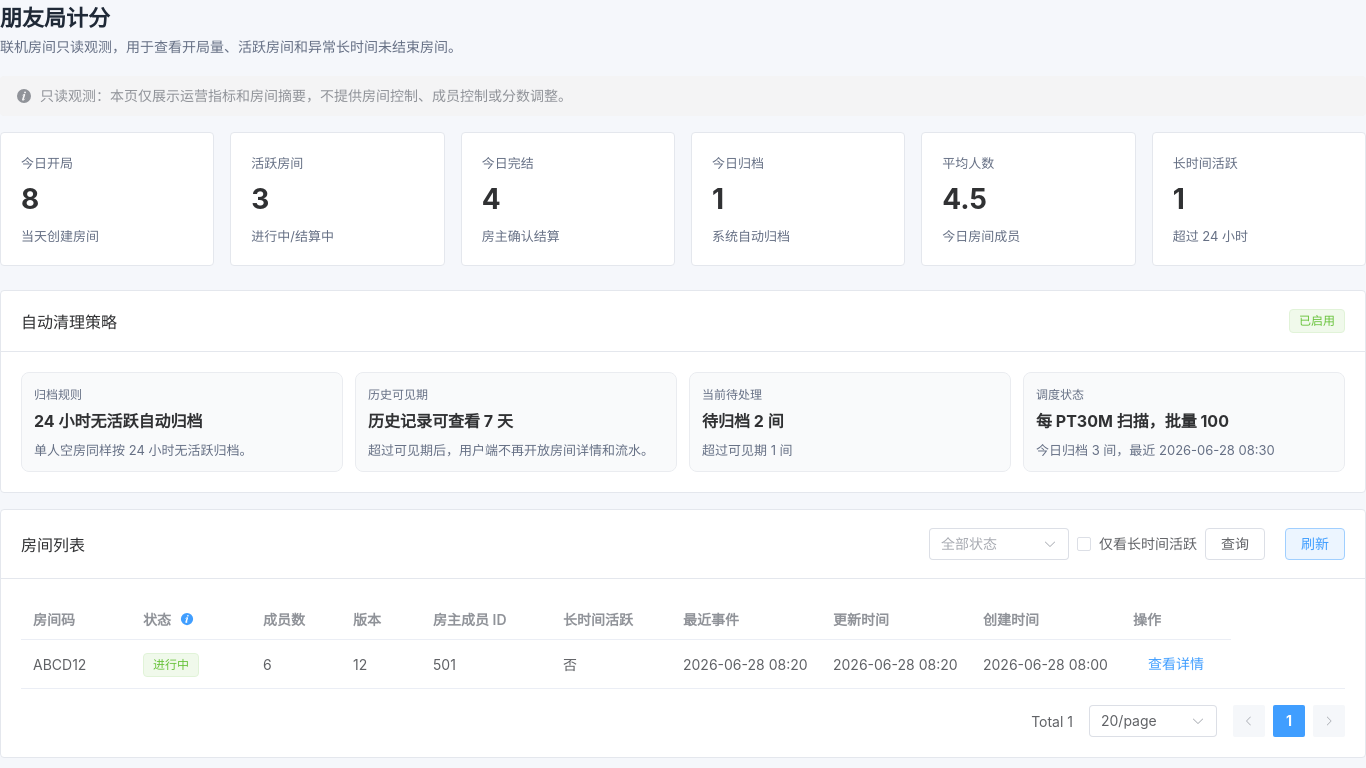
Test: PartyScorePage › renders expandable room status explanations near status column
Check: the text "进行中：房间仍在计分或等待结算，玩家可继续提交计分。" is not shown
Click the button named "状态说明" at (187,619), box [175,607,199,631]
(page scrolled)
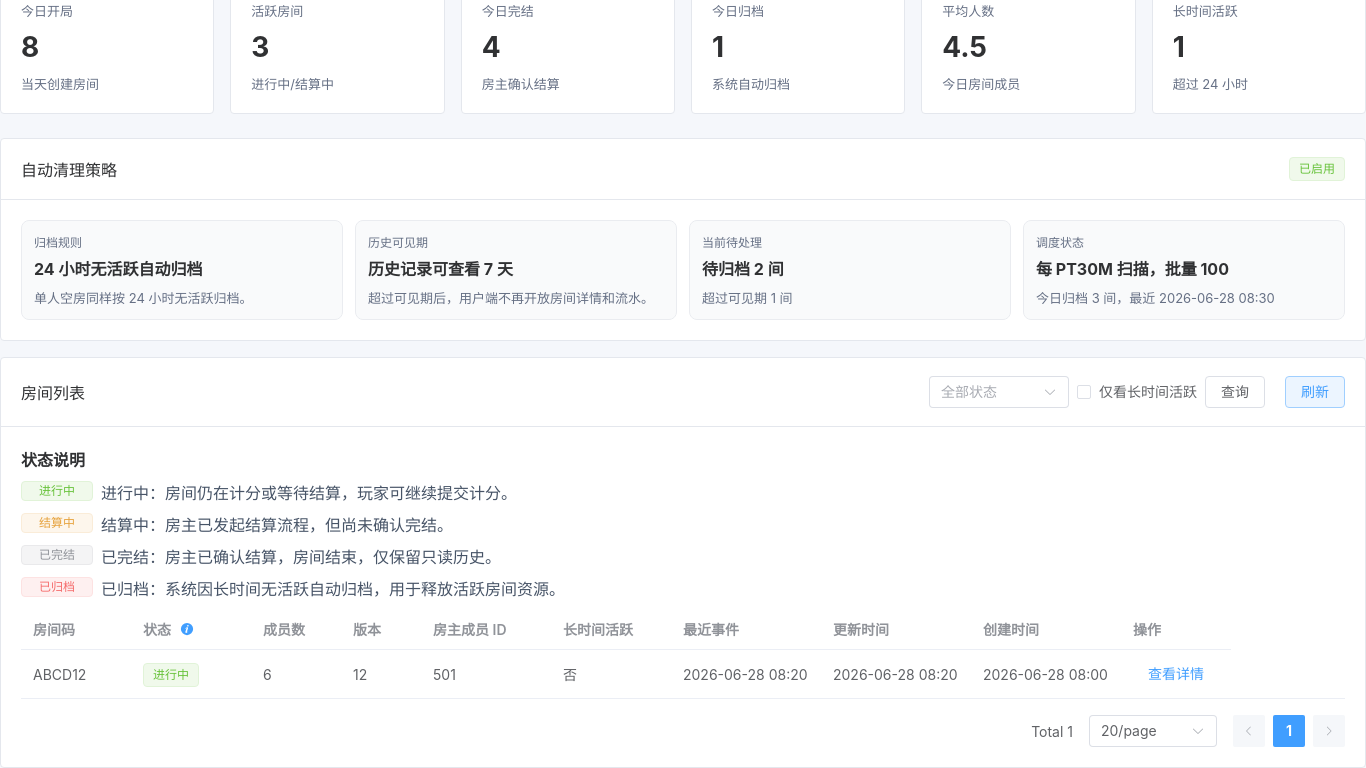
Check: the text "状态说明" is shown, box [21,450,85,470]
Check: the text "进行中：房间仍在计分或等待结算，玩家可继续提交计分。" is shown, box [101,483,517,503]
Check: the text "结算中：房主已发起结算流程，但尚未确认完结。" is shown, box [101,515,453,535]
Click the button named "状态说明" at (187,629), box [175,617,199,641]
(page scrolled)
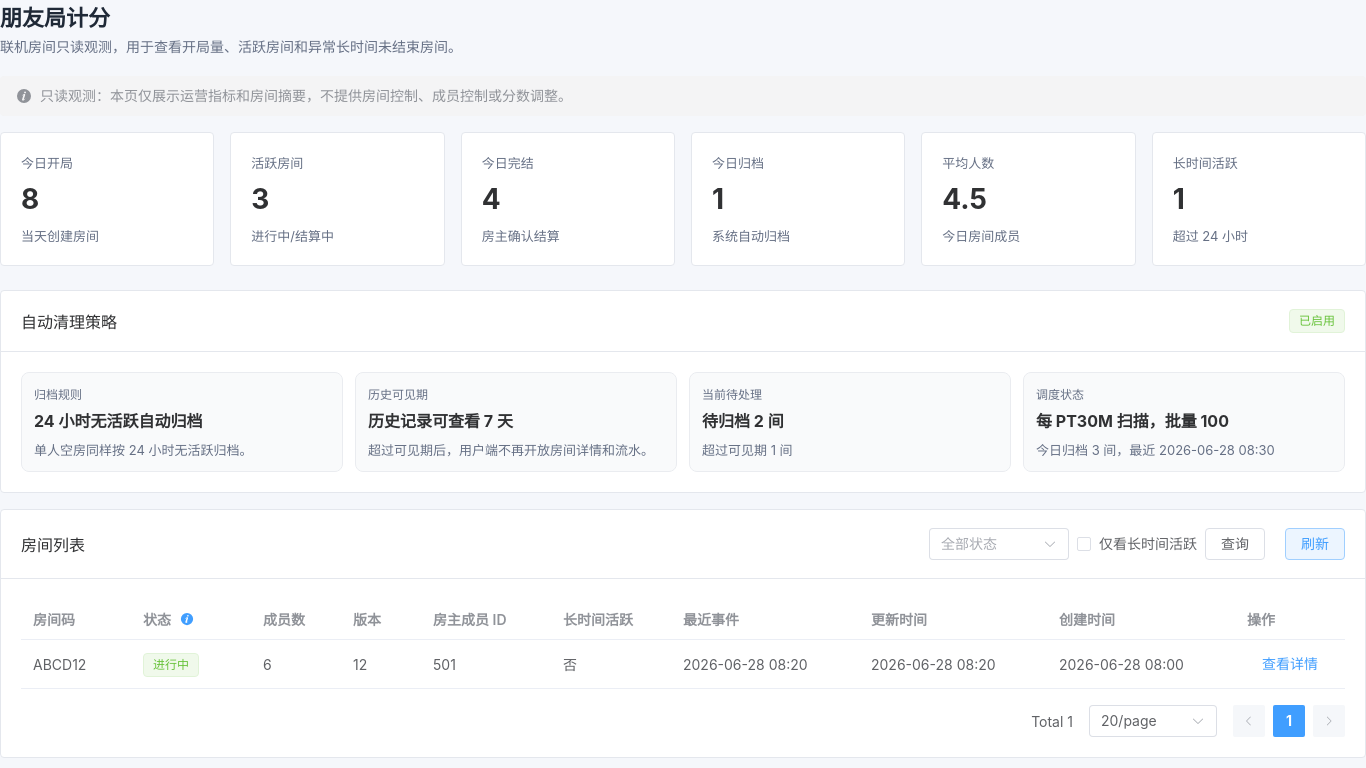
Check: the text "进行中：房间仍在计分或等待结算，玩家可继续提交计分。" is gone
